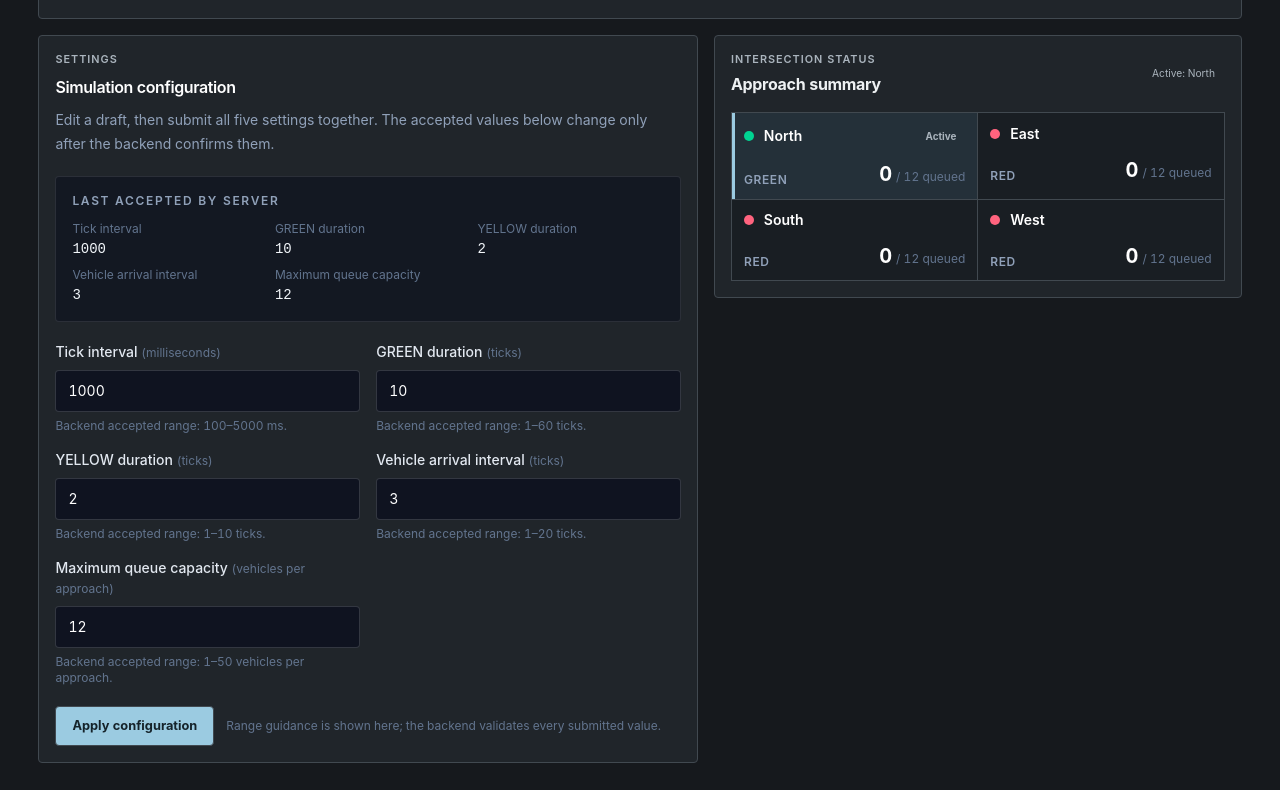
it: simulation controls and configuration › shows field validation and preserves accepted values and the draft after rejection
(page scrolled)
Expected: the heading "Simulation configuration" is shown, [55,77,236,97]
Replace the text in the number field labelled "Tick interval (milliseconds)" with "9999" at coordinates (208, 391), box [55,370,360,412]
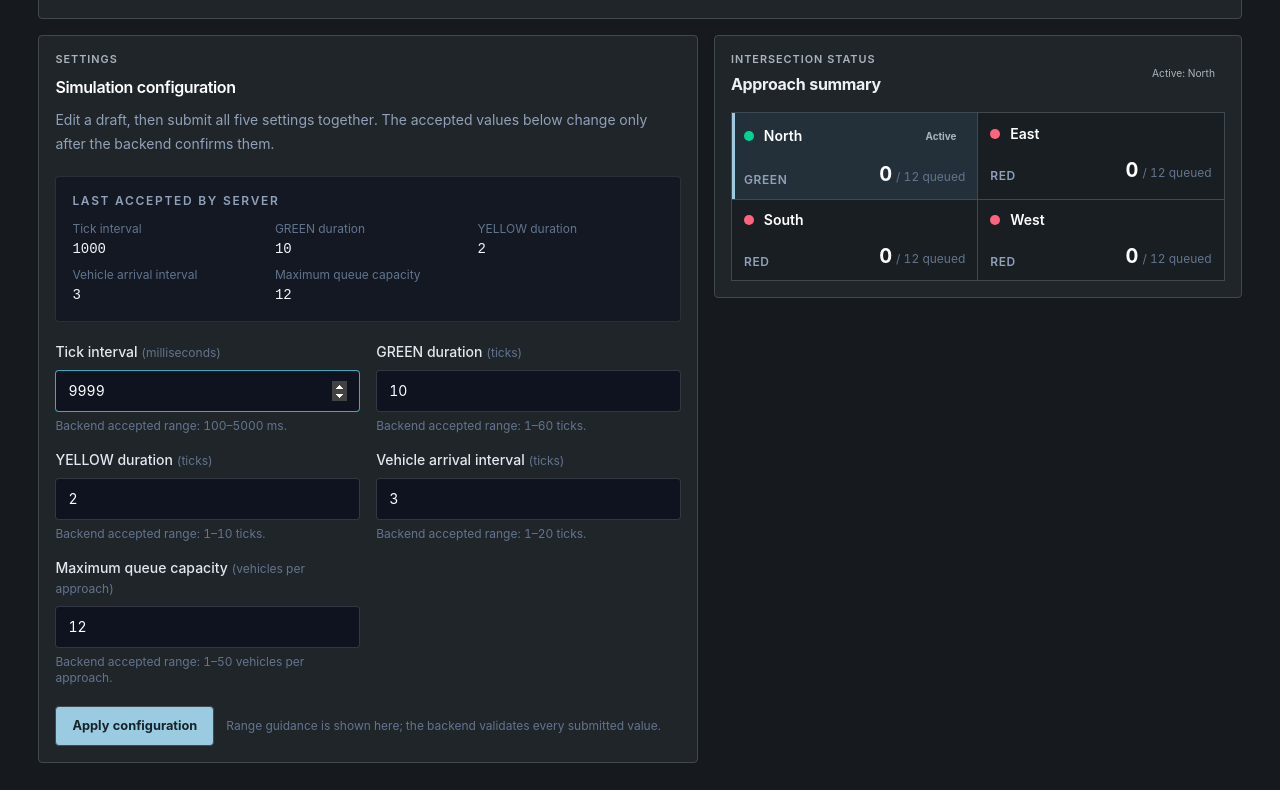
Click the button "Apply configuration" at coordinates (135, 726), box [55,706,214,746]
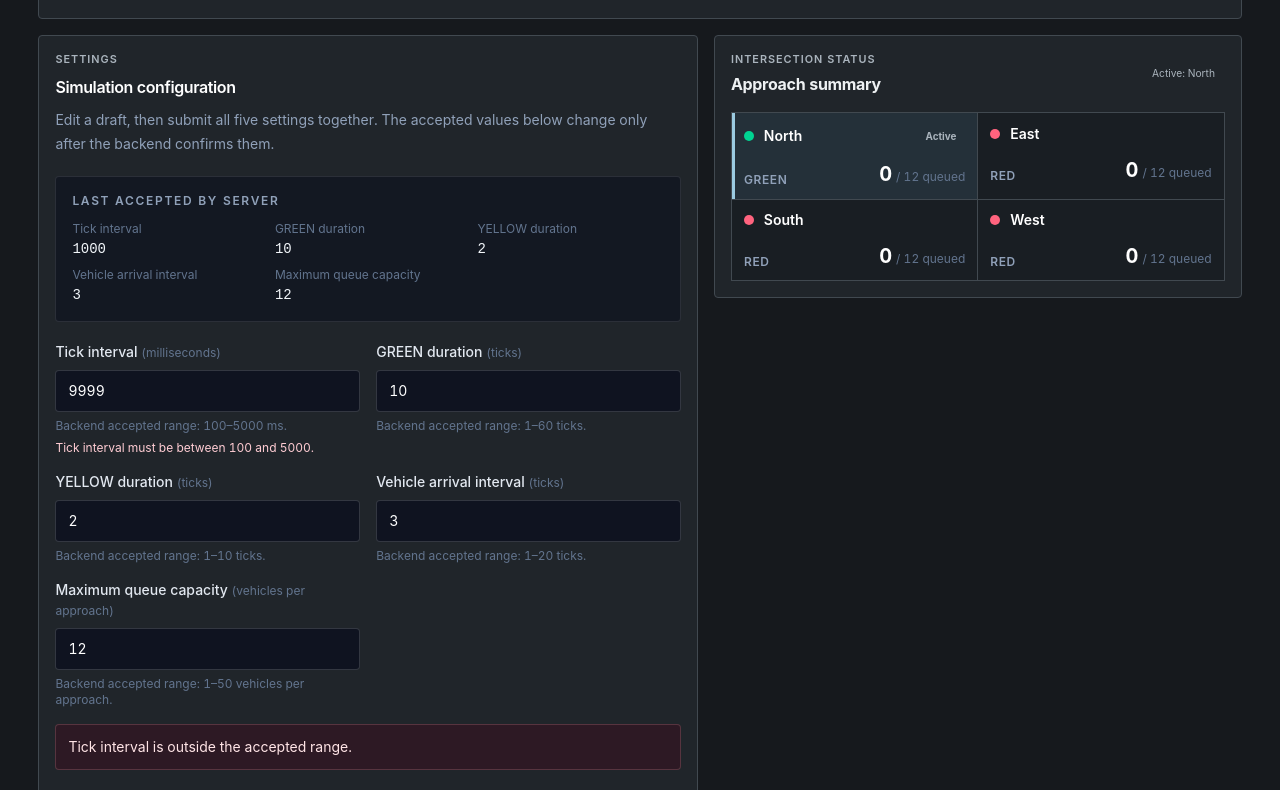
Expected: the text with test id "accepted-tickMs" reads "1000", [72,241,106,257]
Expected: the text "Tick interval must be between 100 and 5000." is shown, [55,440,314,455]
